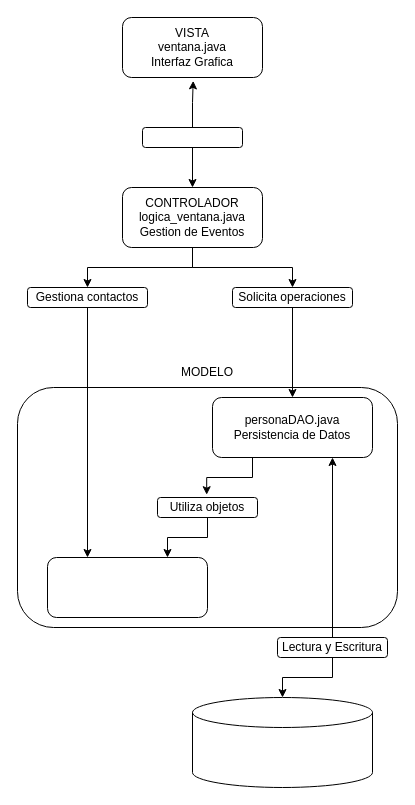
Some shapes in this 415 by 805 pixel diagram are drawn without their labels. The shapes that lost their labels are listed below. From the top down, each one's centre as x and y in pixels, then its label:
At (x=192, y=137): "Interaccion".
At (x=127, y=587): "persona.java Datos del Contacto".
At (x=282, y=742): "BASE DE DATOS datosContactos Almacenamiento".
